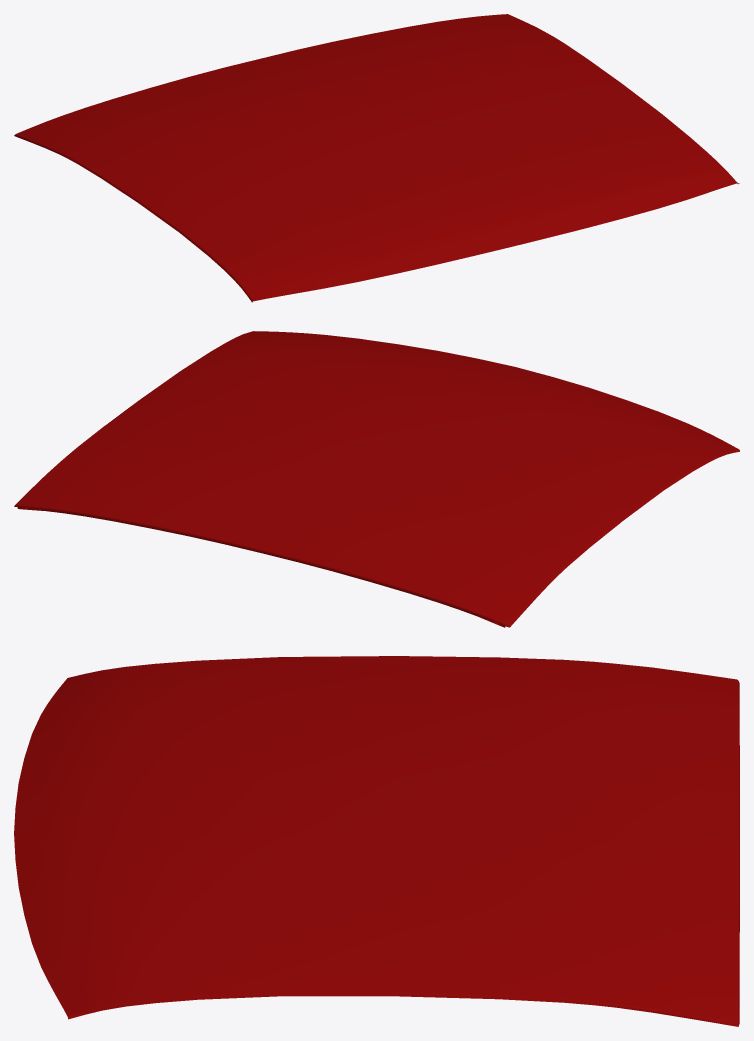
File: roof_oem.glb
The picture shows the model from 3 angles, top to bottom: view 1: azimuth 30°, elevation 25°; view 2: azimuth 150°, elevation 25°; view 3: azimuth 270°, elevation 25°; orthographic projection. The views are drawn at different scales.
Visible parts, largest first — view 1: Roof; view 2: Roof; view 3: Roof.
Part boxes in pixels (left/top/right/bottom): Roof: left=14, top=14, right=739, bottom=302; Roof: left=14, top=331, right=739, bottom=627; Roof: left=14, top=656, right=739, bottom=1026.
Bounding box in the file's own units: 1.07 × 0.0733 × 0.954.
